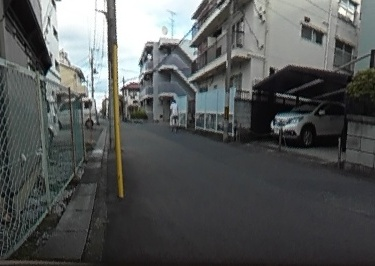person: (168, 99, 179, 128)
